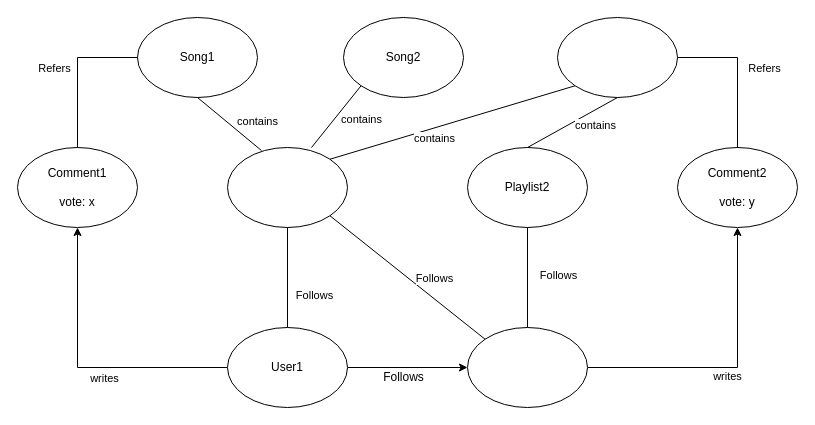
Image size: 815x425. Some labels were removed from this diagram. Here are the shapes that lost their labels. From the top down, the centre of each, then its label:
At pixel 617 57: "Song3".
At pixel 287 187: "Playlist1".
At pixel 527 367: "User2".
